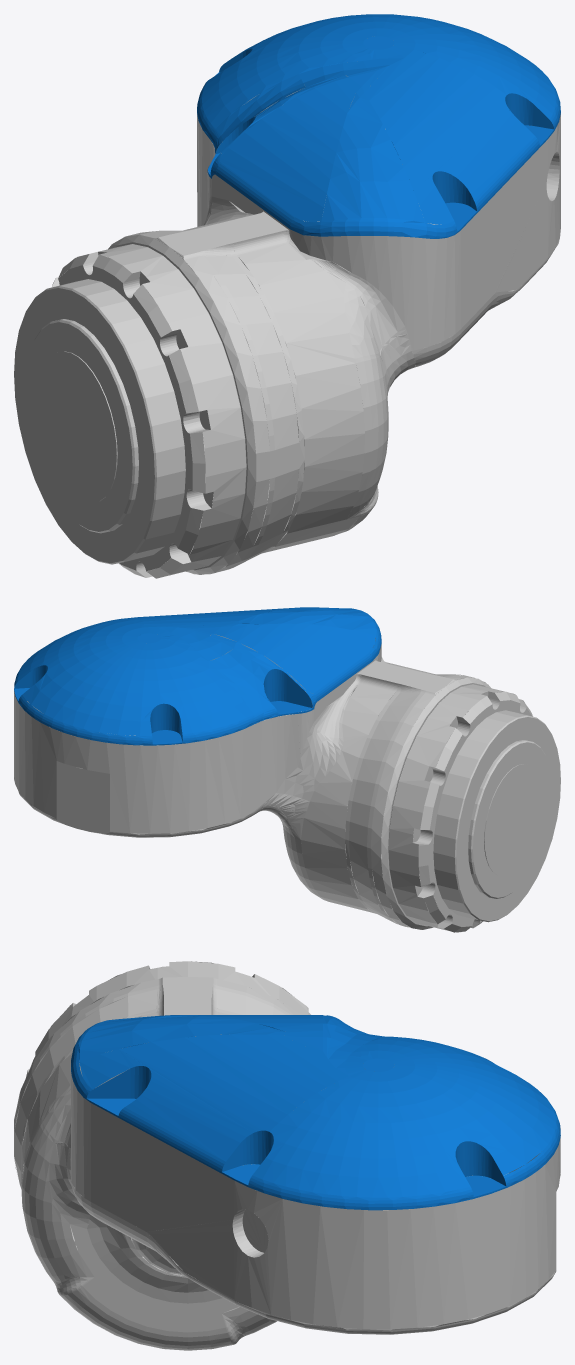
Rendered from arm_left_link_4_u.dae.
3 views of the same model, one above another, from view 1: azimuth 30°, elevation 25°; view 2: azimuth 150°, elevation 25°; view 3: azimuth 270°, elevation 25° (orthographic). The views are drawn at different scales.
Visible parts, largest first — view 1: ShapeIndexedFaceSet, ShapeIndexedFaceSet_001; view 2: ShapeIndexedFaceSet, ShapeIndexedFaceSet_001; view 3: ShapeIndexedFaceSet, ShapeIndexedFaceSet_001.
Boxes of the visible parts, box(x1,y1,x2,y2) form: ShapeIndexedFaceSet: box(14, 75, 560, 578); ShapeIndexedFaceSet_001: box(197, 14, 560, 238); ShapeIndexedFaceSet: box(14, 634, 560, 932); ShapeIndexedFaceSet_001: box(14, 607, 381, 745); ShapeIndexedFaceSet: box(14, 961, 560, 1350); ShapeIndexedFaceSet_001: box(71, 1015, 560, 1210).
Bounding box in the file's own units: 0.2017 × 0.1723 × 0.131.
